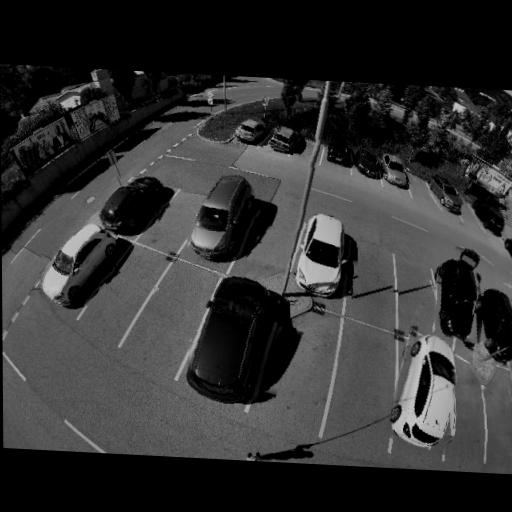busy: (186, 271, 272, 404), (390, 321, 470, 454), (39, 218, 118, 308), (183, 172, 258, 261), (429, 245, 493, 344), (290, 210, 356, 299), (98, 174, 166, 234), (481, 283, 512, 359), (428, 172, 465, 214), (379, 151, 409, 189), (353, 142, 383, 179), (475, 202, 506, 236), (235, 116, 268, 147), (268, 123, 299, 152), (325, 139, 355, 168)
free: (266, 327, 331, 405), (338, 348, 390, 421), (147, 289, 198, 340), (347, 256, 395, 310), (449, 383, 488, 443), (244, 224, 291, 265), (399, 280, 439, 328), (485, 385, 512, 455), (98, 269, 141, 309), (157, 204, 190, 236), (293, 136, 320, 168), (412, 184, 430, 200), (461, 205, 476, 222)
